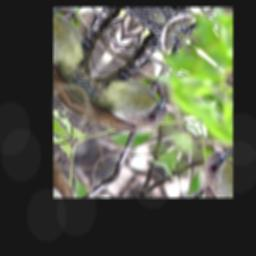Cuckoo: (67, 51, 176, 162)
